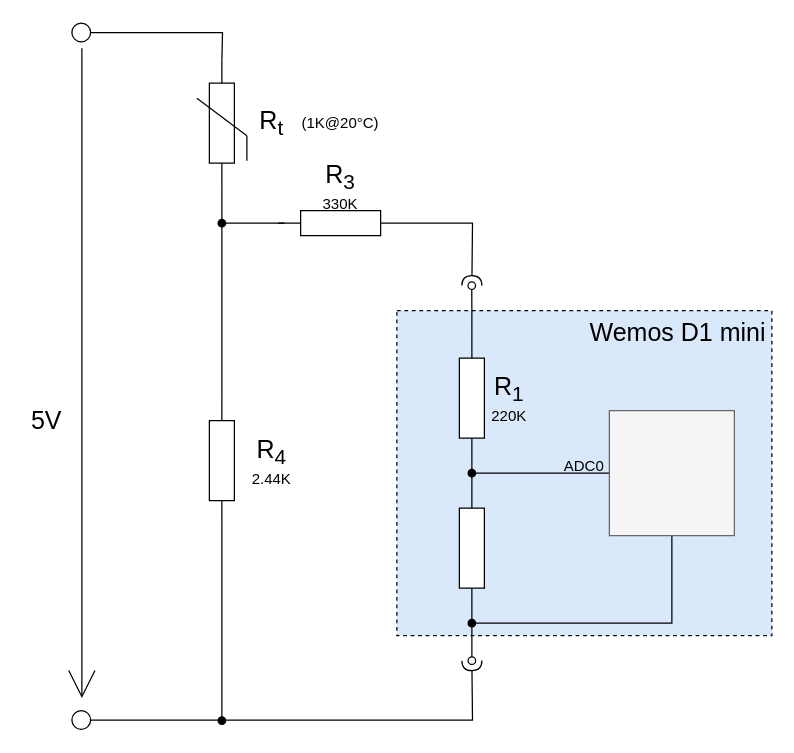
Some shapes in this 794 by 753 pixel diagram are drawn without their labels. Here are the shapes that lost their labels. From the top down, the centre of each, then its label:
pixel 671 472: ESP8266
pixel 471 547: R 2 100K
